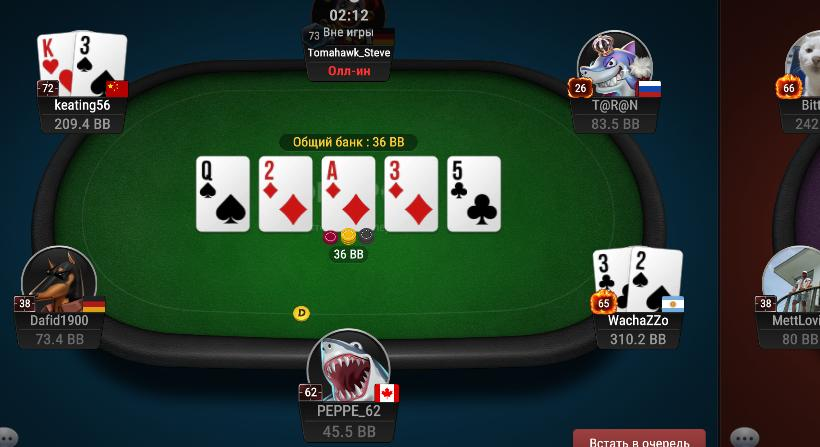2d: (259, 157, 312, 231)
2s: (630, 248, 682, 314)
3c: (593, 249, 630, 313)
3d: (385, 157, 437, 231)
3s: (74, 32, 127, 95)
5c: (448, 157, 500, 231)
Ad: (322, 158, 373, 231)
Kh: (37, 34, 74, 97)
Qs: (197, 157, 248, 231)
